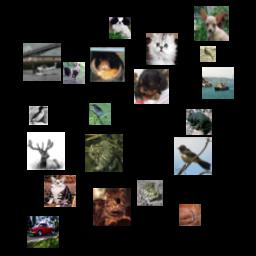airplane: (23, 43, 61, 81)
automobile: (27, 216, 59, 248)
bird: (174, 137, 212, 175), (89, 103, 111, 125), (179, 204, 201, 226), (63, 62, 85, 84), (29, 106, 48, 125), (200, 46, 216, 62)
cat: (93, 188, 131, 226), (90, 47, 125, 82), (44, 175, 76, 207), (146, 33, 178, 65)
deer: (27, 132, 65, 170)
dog: (134, 69, 169, 104), (194, 6, 229, 41), (109, 17, 131, 39)
frog: (85, 134, 123, 172), (137, 180, 163, 206), (186, 109, 212, 135)
ship: (202, 67, 234, 99)
